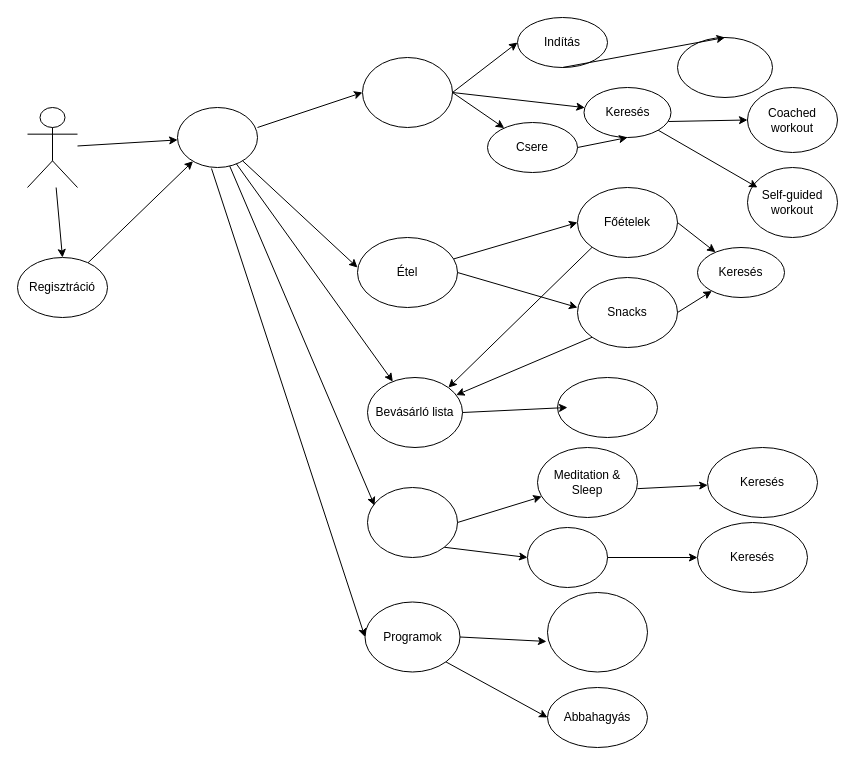
The diagram is 855 pixels wide and 765 high, and some of its shapes have lost their labels. The shapes that lost their labels are listed below. From the top down, each one's centre as x and y in pixels, then its label:
the point at 724,67: Vége
the point at 407,92: Edzés
the point at 52,147: User
the point at 217,137: Bejelentkezés
the point at 607,407: Pipa/Clear list
the point at 412,522: Cikkek
the point at 567,557: Blog
the point at 597,632: Kezdés
